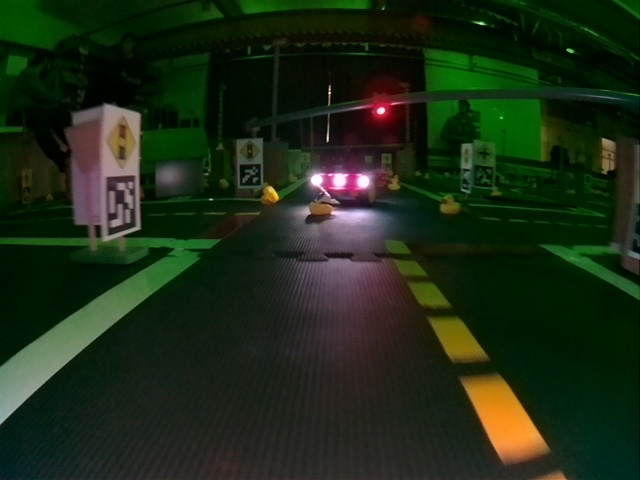Duckie: (308, 199, 332, 217), (441, 196, 461, 213), (261, 186, 278, 203), (390, 178, 398, 190)
Duckiebot: (312, 159, 376, 204)
Intersection sign: (476, 142, 491, 163)
QR code: (105, 177, 138, 233), (241, 166, 260, 186), (476, 167, 493, 186), (460, 170, 470, 190)
Signal sign: (108, 114, 137, 170), (237, 140, 260, 163)
Traffic light: (373, 93, 388, 117)
